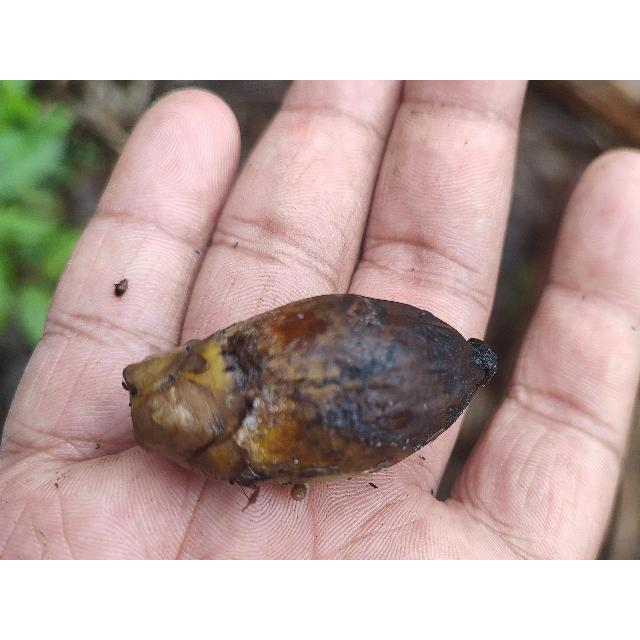damaged: (121, 294, 498, 491)
